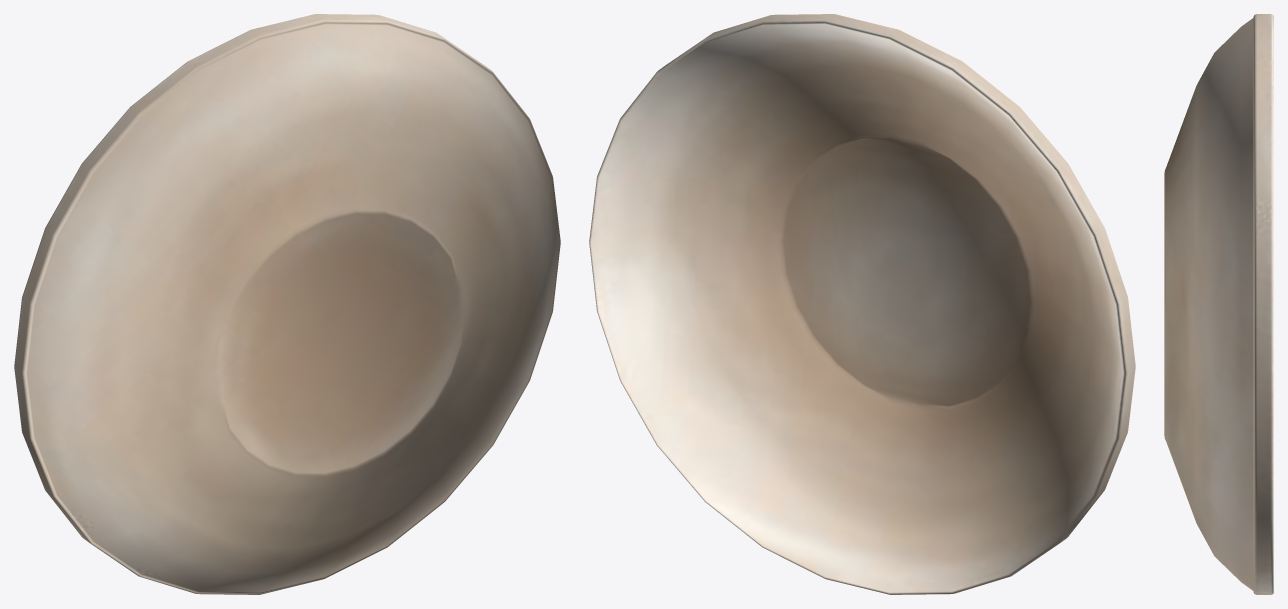
Rendered from Plato 03 Fin.FBX.
3 views of the same model, side by side, from view 1: azimuth 30°, elevation 25°; view 2: azimuth 150°, elevation 25°; view 3: azimuth 270°, elevation 25° (orthographic). The views are drawn at different scales.
Parts seen in each view (by area): view 1: plato3 b; view 2: plato3 b; view 3: plato3 b.
Boxes of the visible parts, x1,y1,x2,y2 form: plato3 b: [14, 14, 560, 594]; plato3 b: [589, 14, 1135, 594]; plato3 b: [1164, 14, 1273, 594].
Size of the model in its own units: 40 by 39.71 by 7.5.
Materials: 1 (1 with a texture image).
